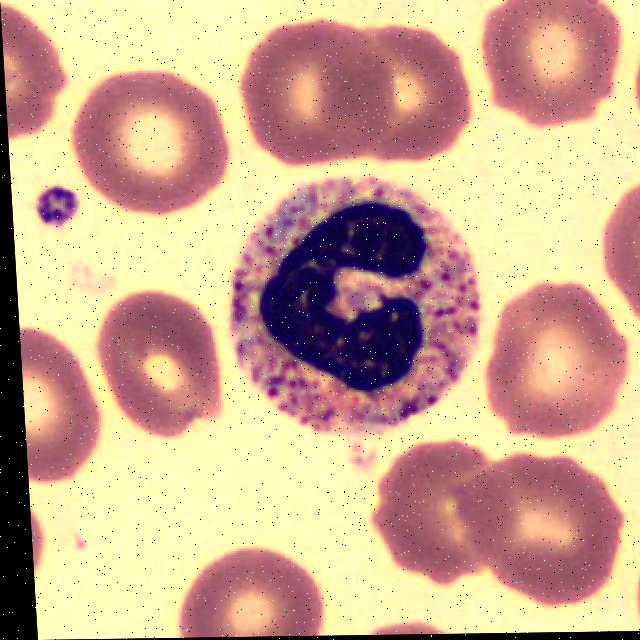neutrophil: (215, 167, 489, 439)
platelets: (34, 172, 81, 238)
rbc: (462, 463, 625, 595), (69, 74, 229, 206), (245, 21, 386, 167), (374, 438, 513, 584), (483, 0, 627, 126), (102, 299, 227, 438), (327, 30, 465, 154), (19, 317, 99, 489), (177, 552, 320, 638), (1, 12, 69, 144), (595, 165, 640, 332), (30, 512, 68, 582), (623, 511, 640, 631), (359, 619, 458, 635), (630, 27, 640, 152)
